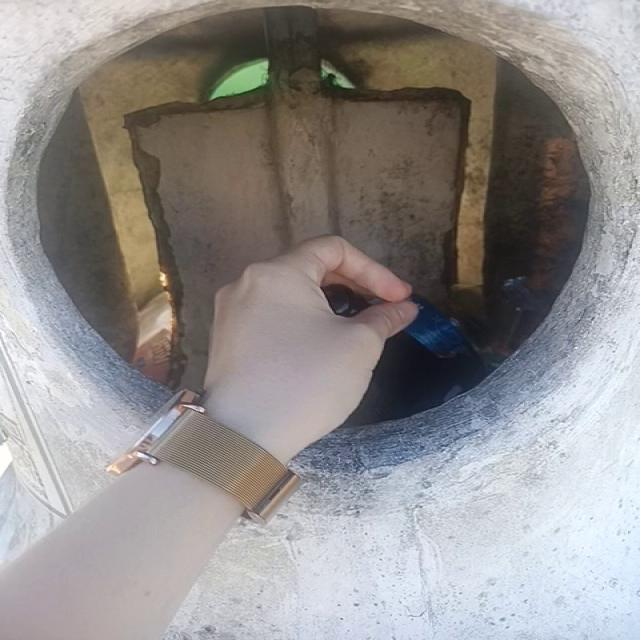Glass: (364, 333, 477, 418), (321, 285, 371, 318)
